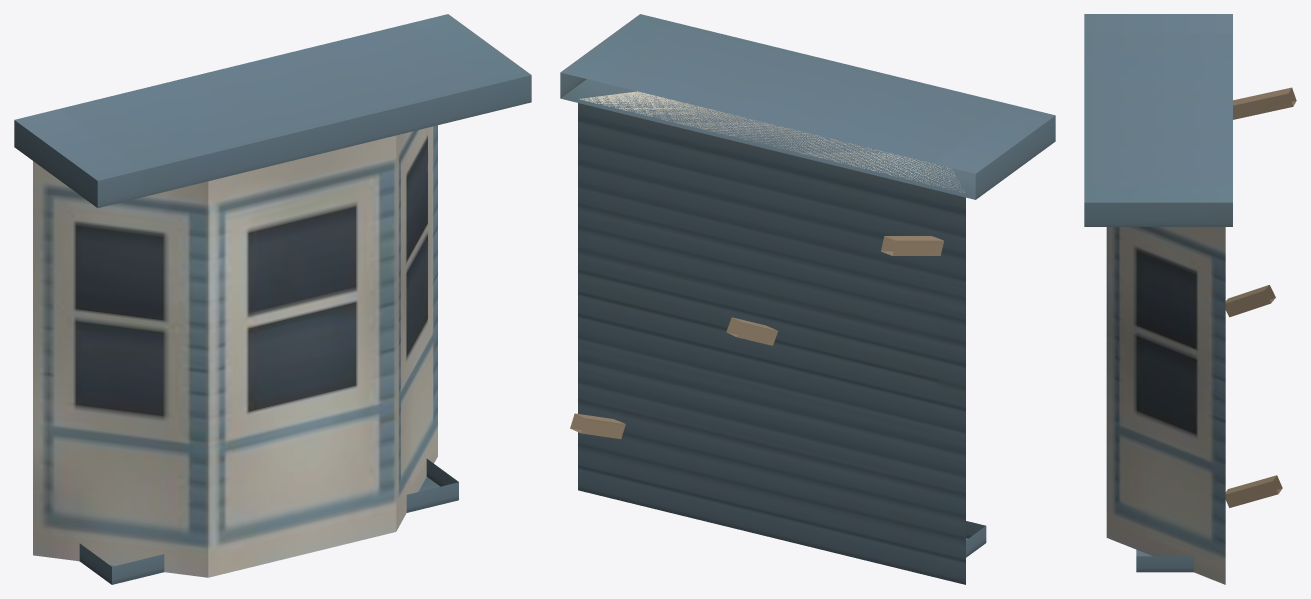
File: debris_sf_victorian_bay.glb
3 views of the same model, side by side, from view 1: azimuth 30°, elevation 25°; view 2: azimuth 150°, elevation 25°; view 3: azimuth 270°, elevation 25° (orthographic). The views are drawn at different scales.
Parts seen in each view (by area): view 1: debris_sf_victorian_bay; view 2: debris_sf_victorian_bay; view 3: debris_sf_victorian_bay.
Part boxes in pixels (x1,y1,x2,y2): debris_sf_victorian_bay: (14,14,531,584); debris_sf_victorian_bay: (560,14,1055,584); debris_sf_victorian_bay: (1084,14,1296,584).
Bounding box in the file's own units: 3 × 2.88 × 1.43.
1 material, 1 textured.
